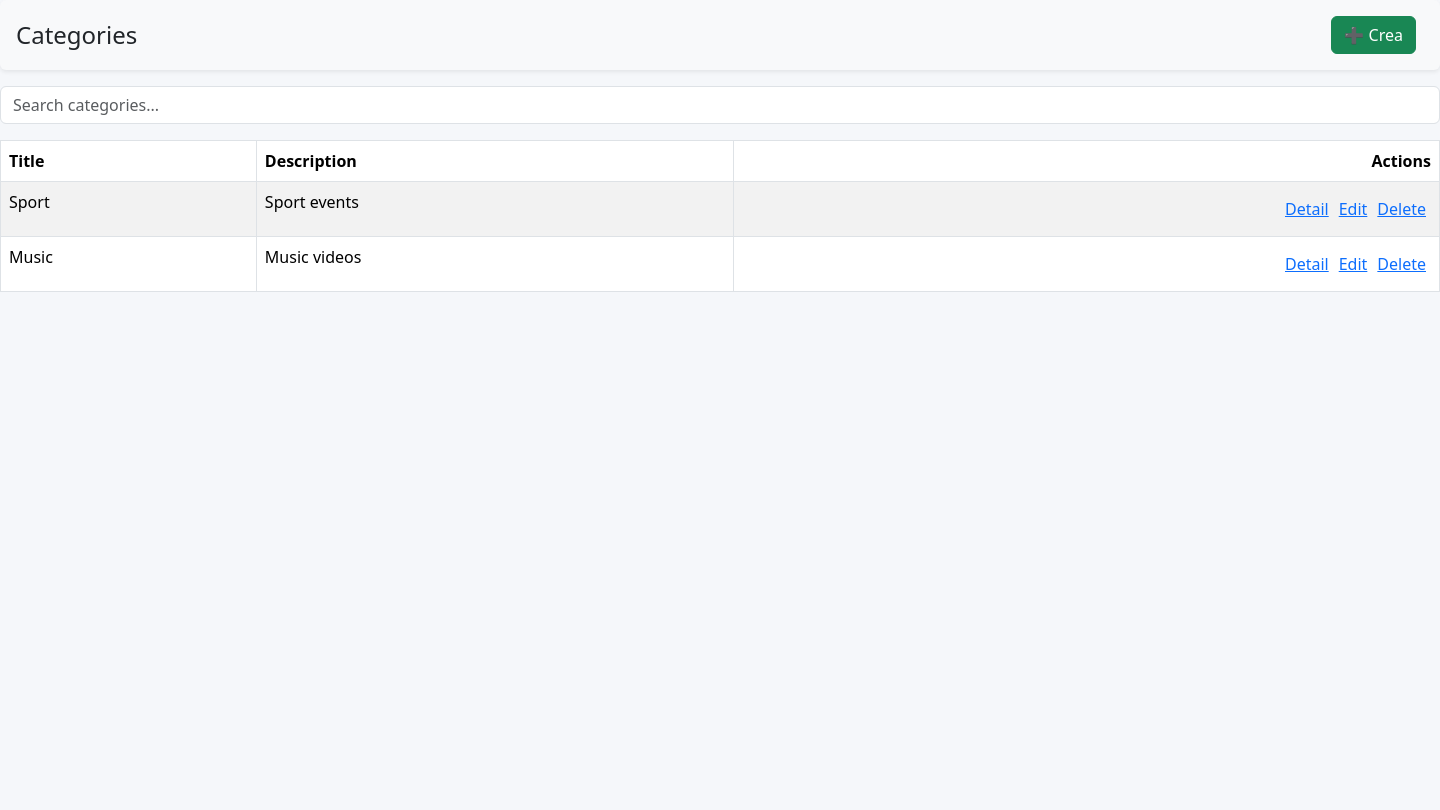
Test: Categories Index › closes the modal when Cancel is clicked
Click the button "Delete" in the row of "Sport events": (1402, 209) [1372,190,1431,228]
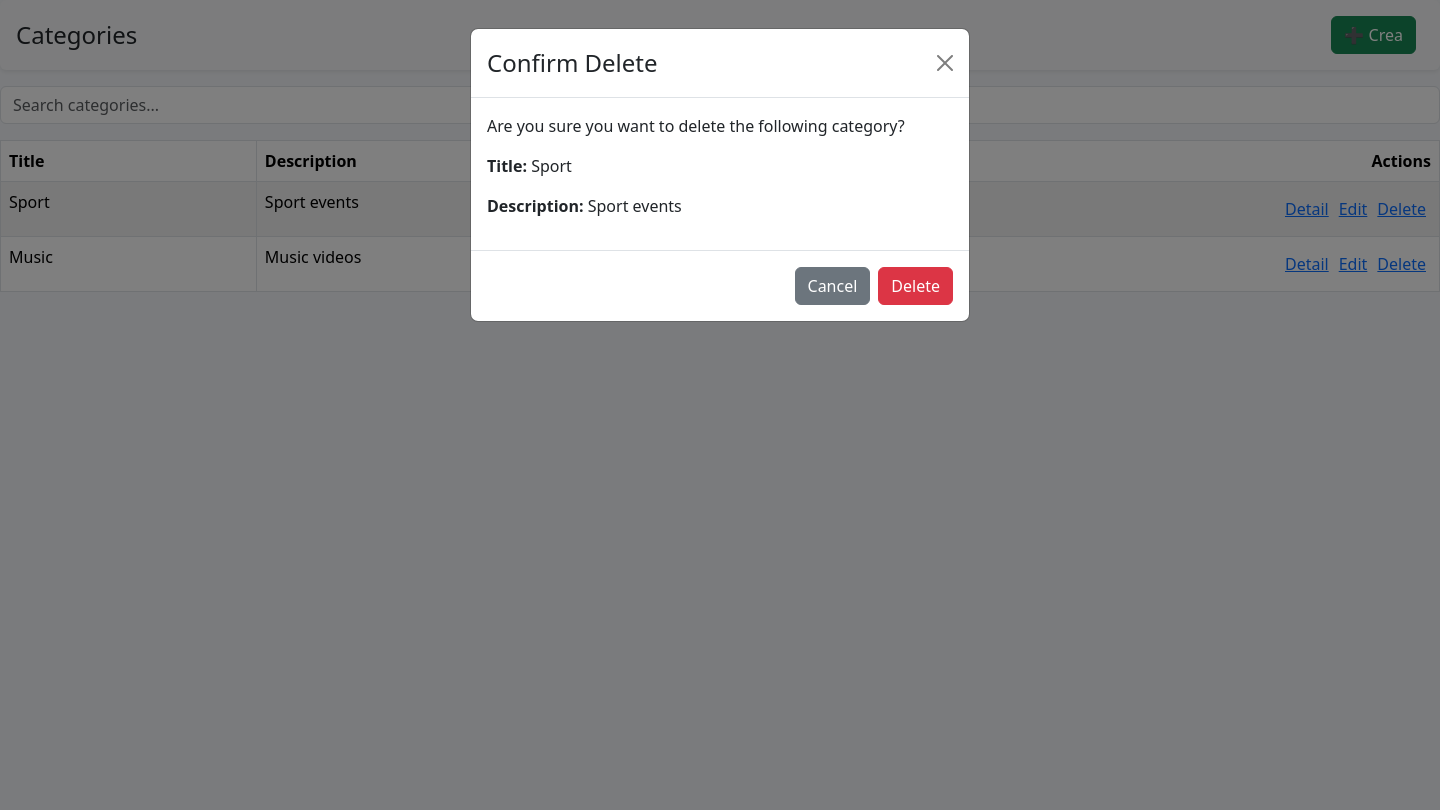
Click the button "Cancel": (832, 286) [794,267,870,305]
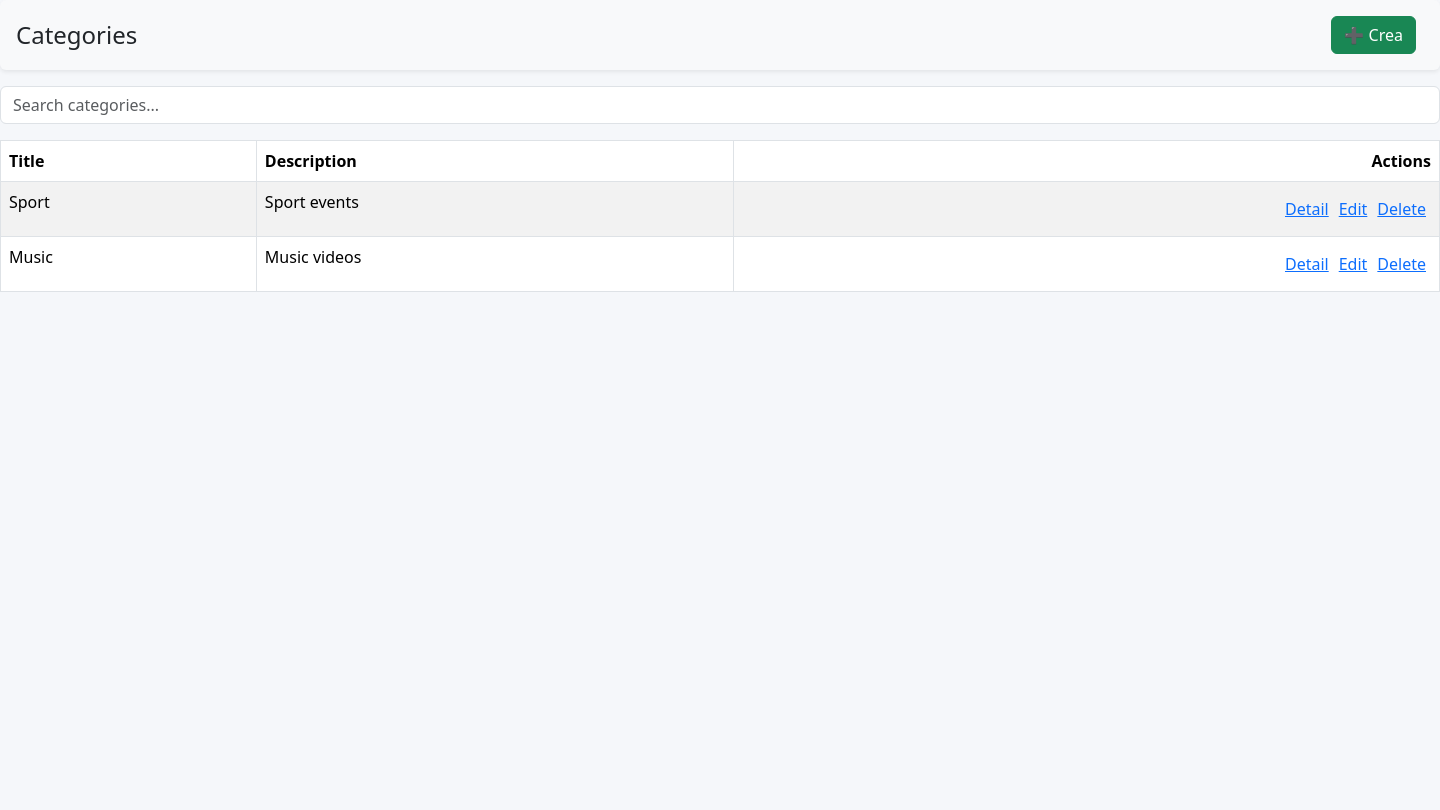
Now the text "Confirm Delete" is gone
